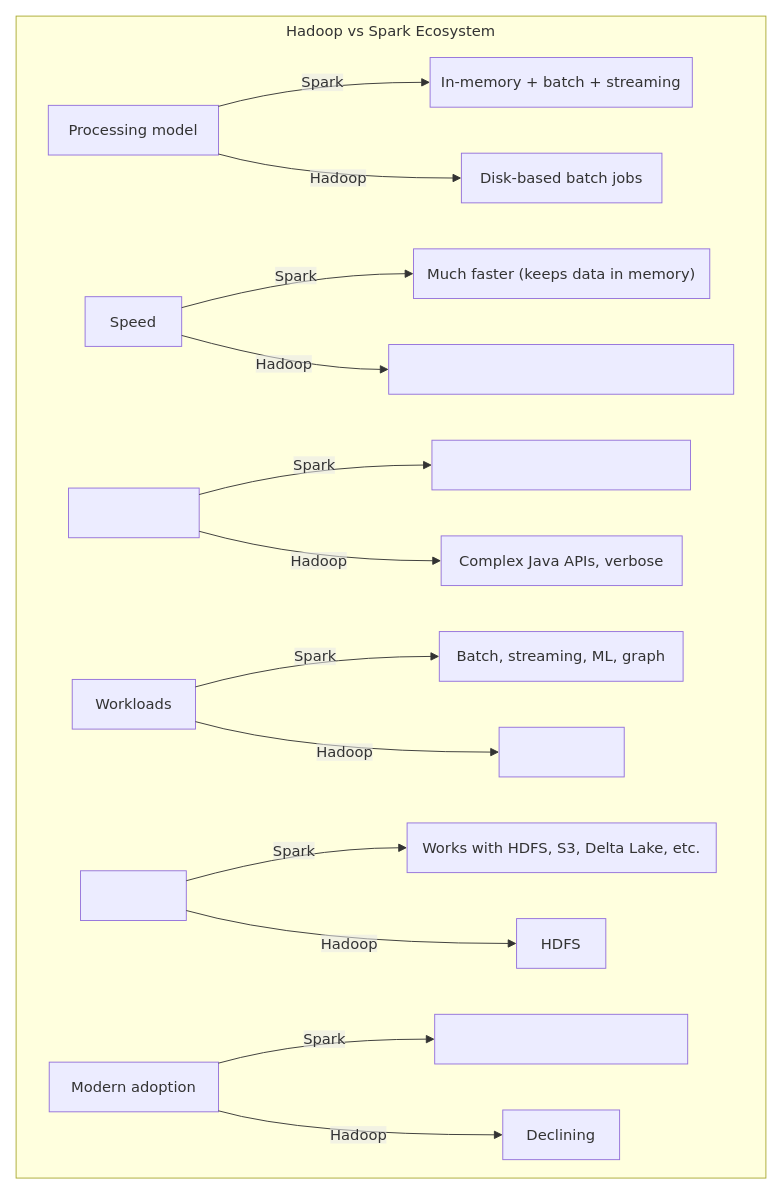
Image size: 782x1194. Some labels were removed from this diagram. Here are the shapes that lost their labels. From the top down, the centre of each, then its label:
At [561,369]: "Slower (writes intermediate results to disk)".
At [560,464]: "High-level APIs (PySpark, SQL)".
At [133,512]: "Ease of use".
At [561,751]: "Batch only".
At [133,895]: "Storage".
At [561,1038]: "Dominant in data engineering".
